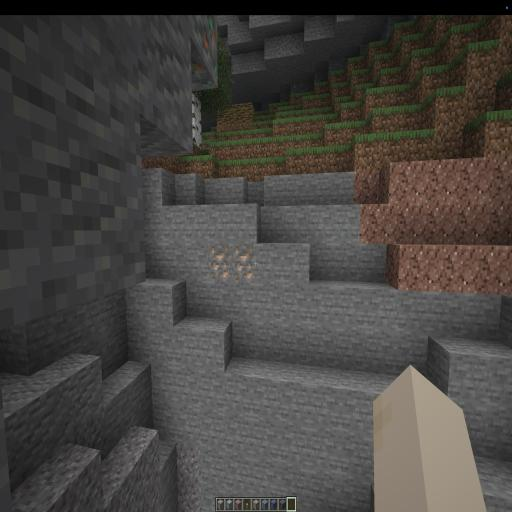iron ore: (204, 240, 258, 284)
